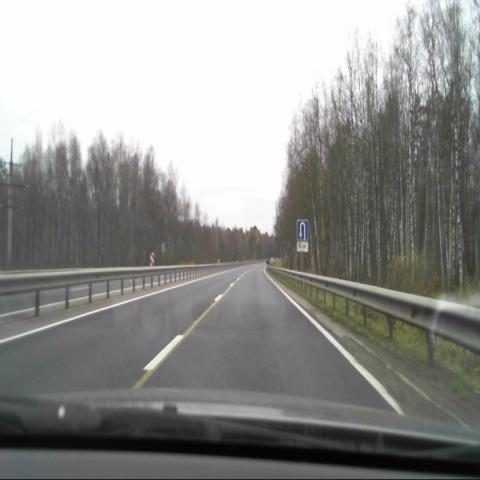6_3_1: (295, 219, 308, 241)
